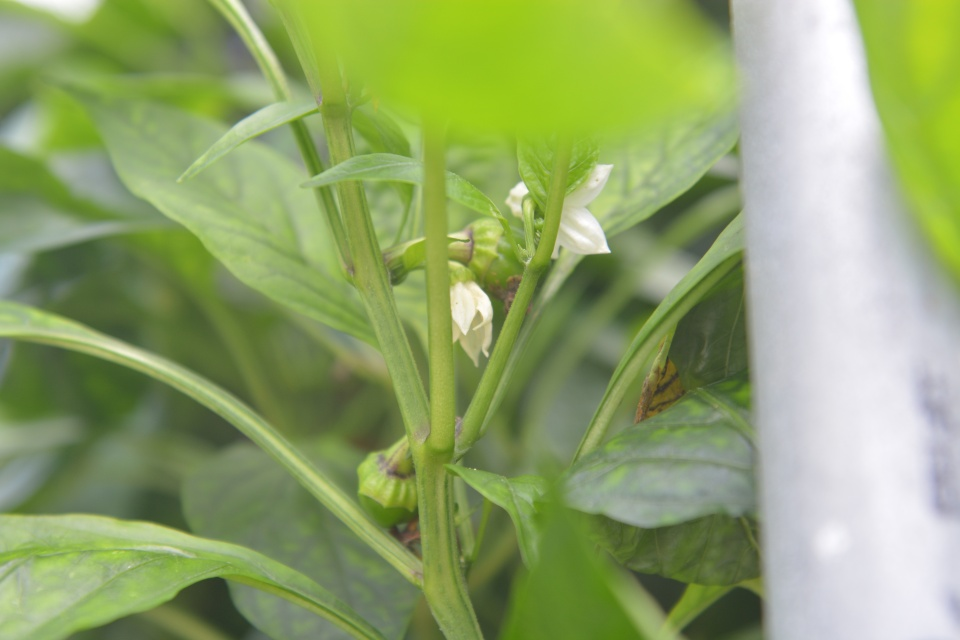flower: (503, 160, 616, 260), (448, 277, 496, 368)
immature: (465, 211, 554, 296), (354, 446, 420, 531)
